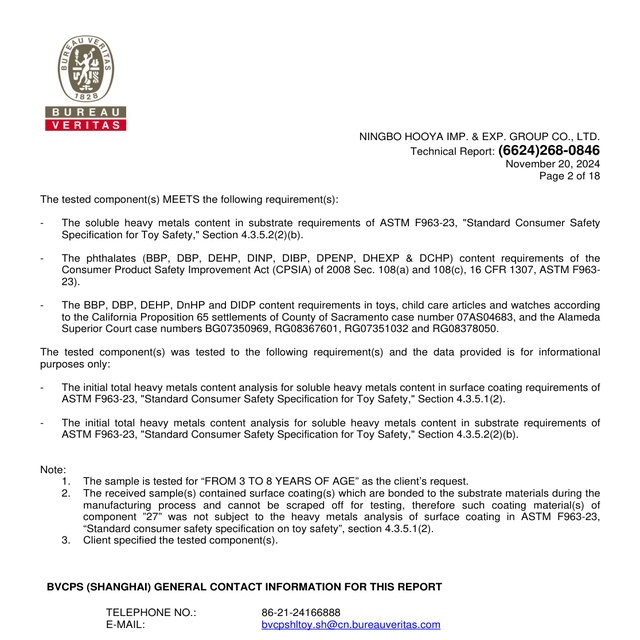bureau_veritas: (42, 33, 129, 133)
